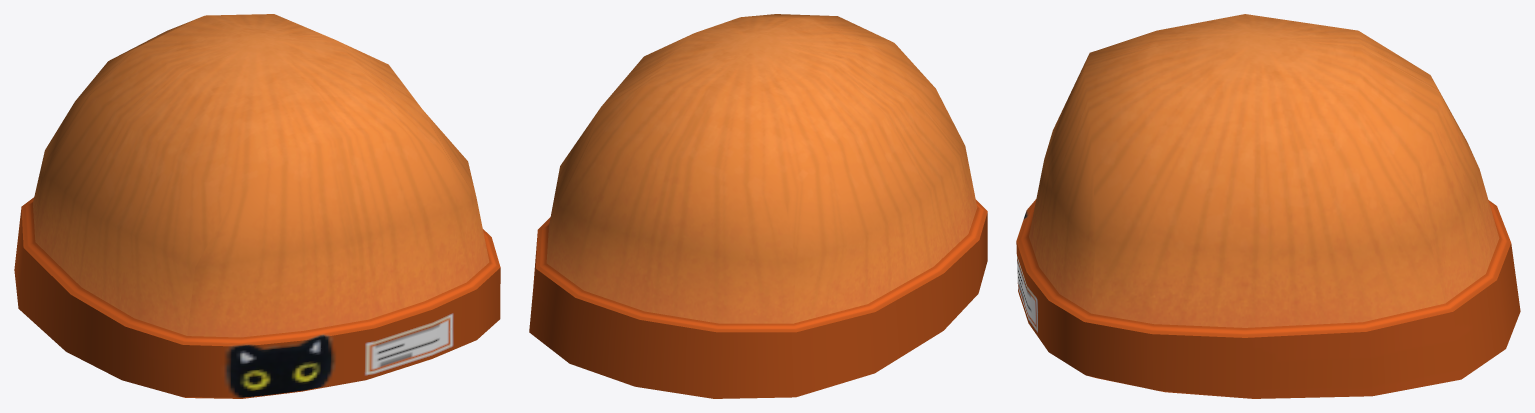
File: boy_cap1.FBX
3 views of the same model, side by side, from view 1: azimuth 30°, elevation 25°; view 2: azimuth 150°, elevation 25°; view 3: azimuth 270°, elevation 25° (orthographic). The views are drawn at different scales.
Parts seen in each view (by area): view 1: boy_cap15; view 2: boy_cap15; view 3: boy_cap15.
Boxes of the visible parts, <box> form: boy_cap15: <box>14,14,500,398</box>; boy_cap15: <box>529,14,987,398</box>; boy_cap15: <box>1016,14,1520,398</box>.
Size of the model in its own units: 49.21 by 39.44 by 54.62.
